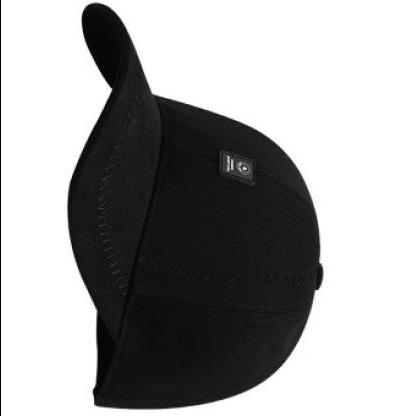cap: (54, 3, 332, 414)
